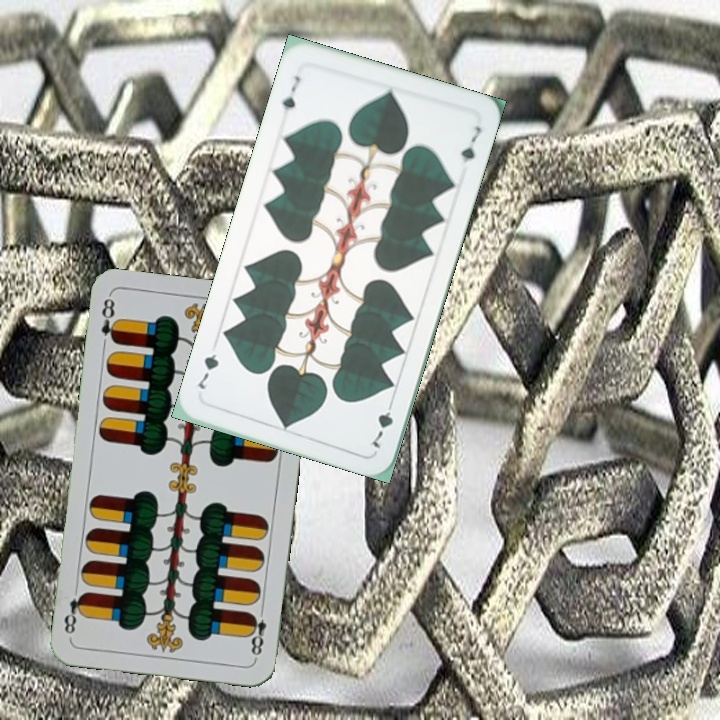E8: (244, 602, 269, 661), (97, 292, 122, 347)
G7: (367, 395, 397, 451), (278, 72, 304, 113)
